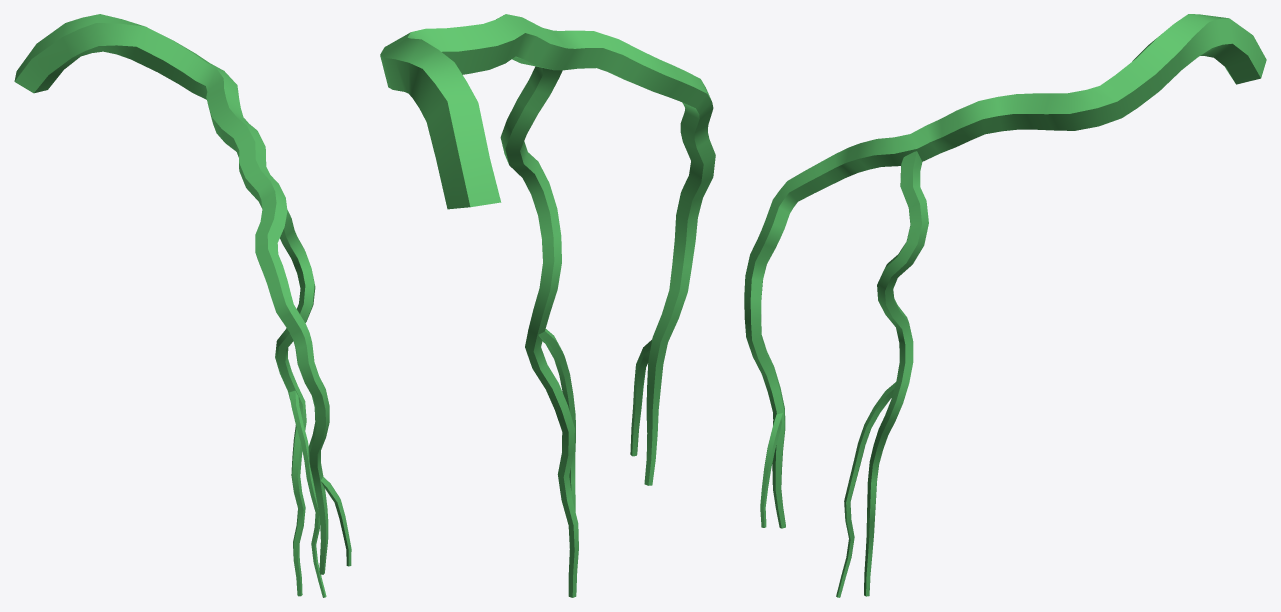
The model's file is roots_solo_C_B.fbx.
The picture shows the model from 3 angles, left to right: view 1: azimuth 30°, elevation 25°; view 2: azimuth 150°, elevation 25°; view 3: azimuth 270°, elevation 25°; orthographic projection. The views are drawn at different scales.
Visible parts, largest first — view 1: roots_solo_C_B; view 2: roots_solo_C_B; view 3: roots_solo_C_B.
Part boxes in pixels (x1,y1,x2,y2): roots_solo_C_B: (14, 14, 351, 597); roots_solo_C_B: (380, 14, 715, 597); roots_solo_C_B: (744, 14, 1266, 597).
Size of the model in its own units: 108 by 338 by 292.
